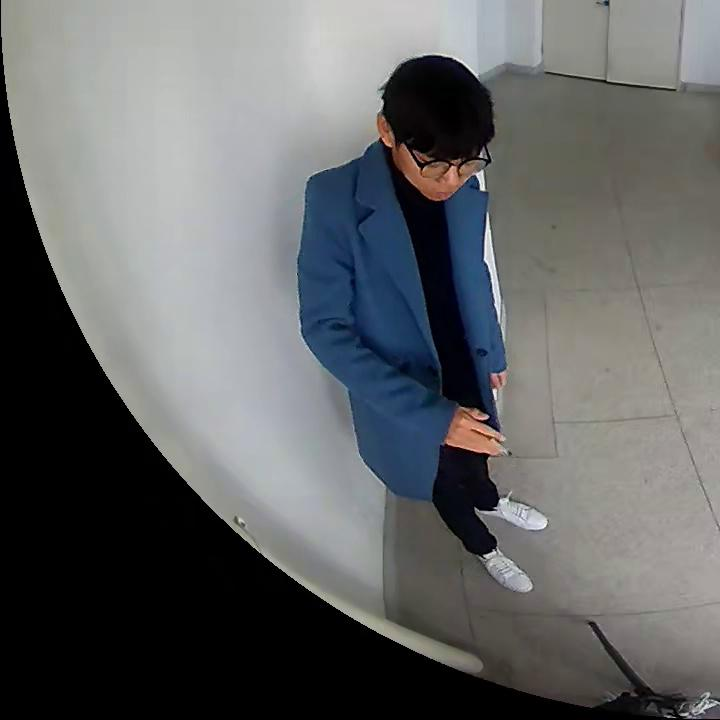handsmoke: (446, 405, 514, 459)
handwithoutsmoke: (482, 367, 514, 393)
mouthwithoutsmoke: (375, 57, 485, 200)
